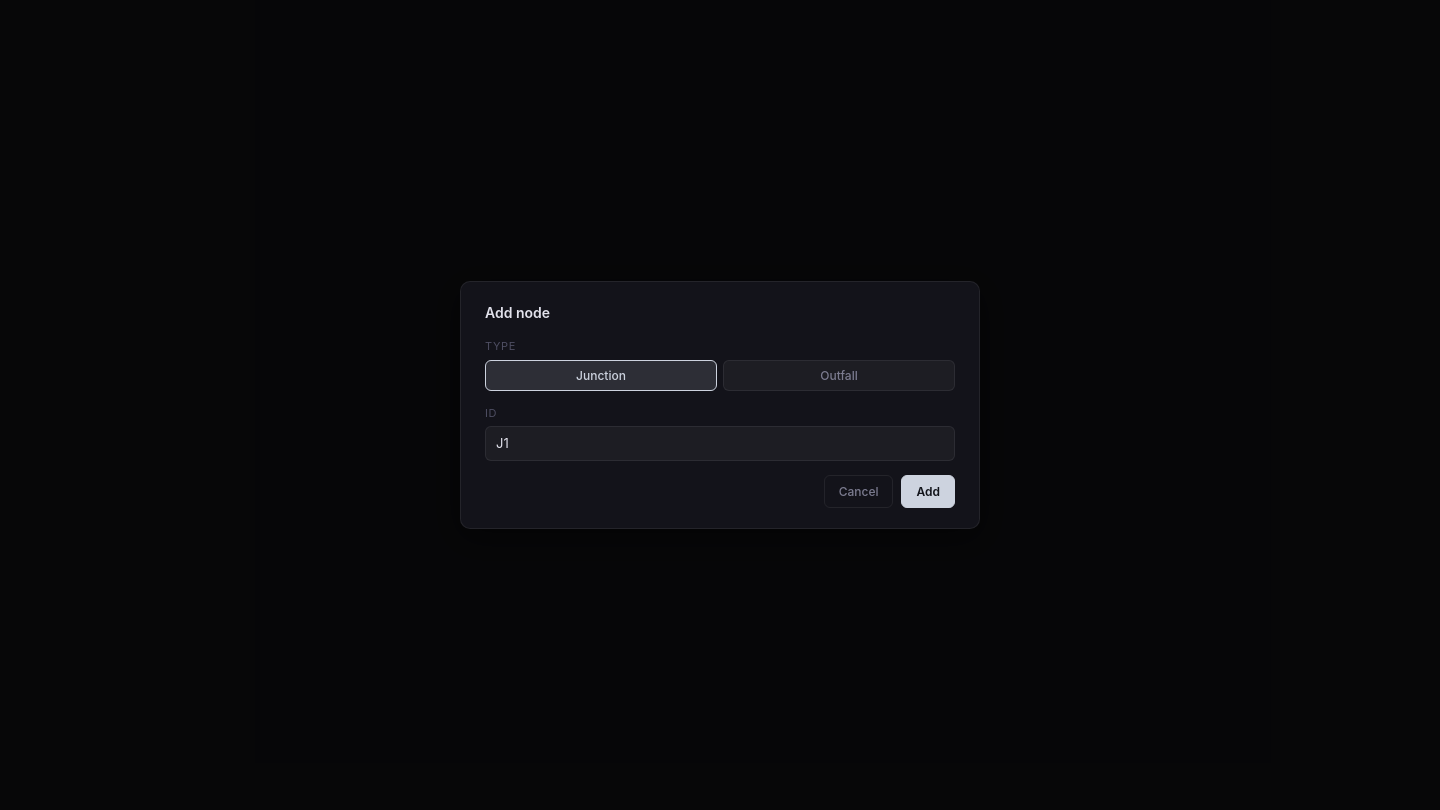
Test case: CreateElementDialog › keeps itself open with the reason when the create is refused
Click the button "Add" at (928, 492), box [902, 475, 955, 508]
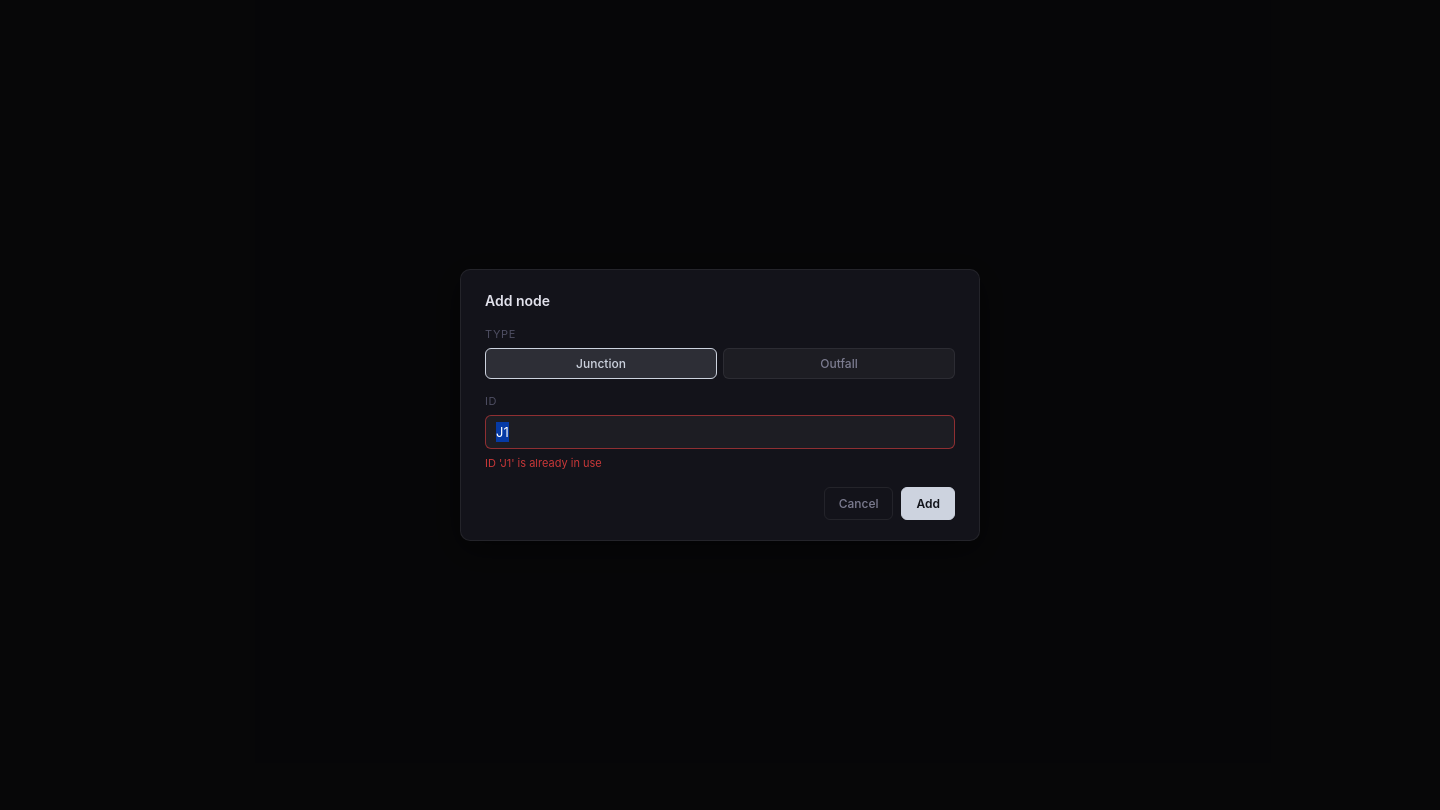
Expected: the dialog is shown, [460, 269, 980, 541]
Expected: the message shows "already in use", [485, 456, 602, 470]
